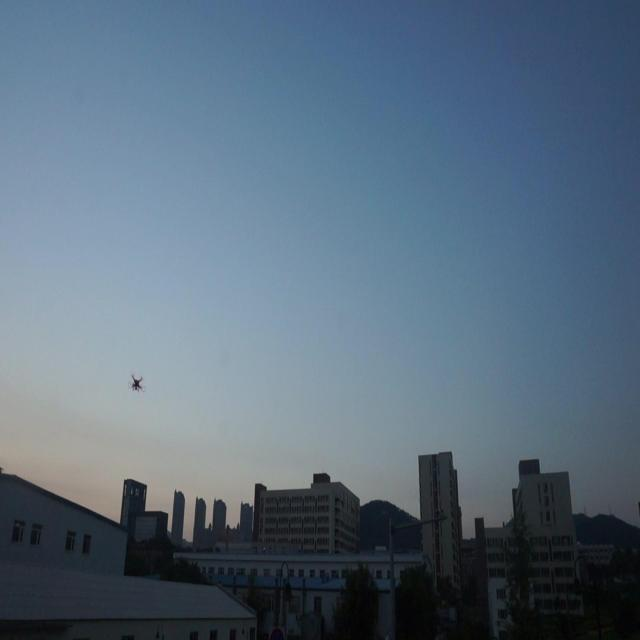drone: (125, 370, 147, 396)
